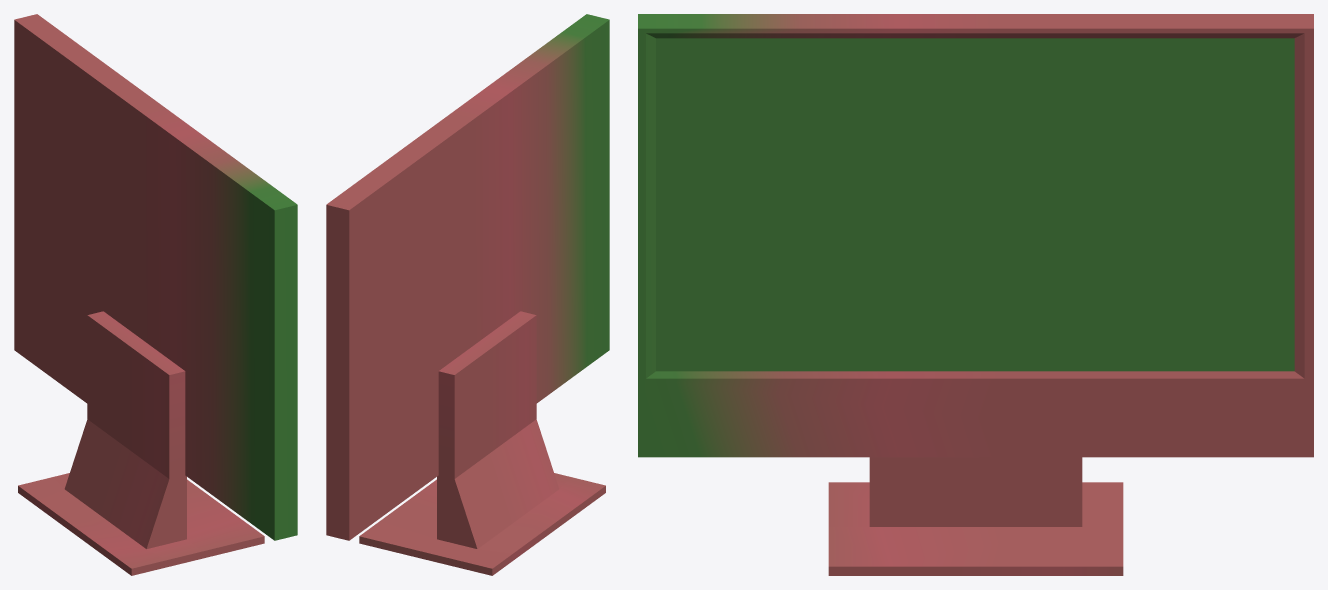
File: Office_Mac.fbx
3 views of the same model, side by side, from view 1: azimuth 30°, elevation 25°; view 2: azimuth 150°, elevation 25°; view 3: azimuth 270°, elevation 25° (orthographic). The views are drawn at different scales.
Parts seen in each view (by area): view 1: Officei_Mac; view 2: Officei_Mac; view 3: Officei_Mac.
Part boxes in pixels (x1=…): Officei_Mac: x1=14, y1=14, x2=297, y2=575; Officei_Mac: x1=326, y1=14, x2=609, y2=575; Officei_Mac: x1=638, y1=14, x2=1313, y2=575.
Size of the model in its own units: 36.55 by 106 by 124.
